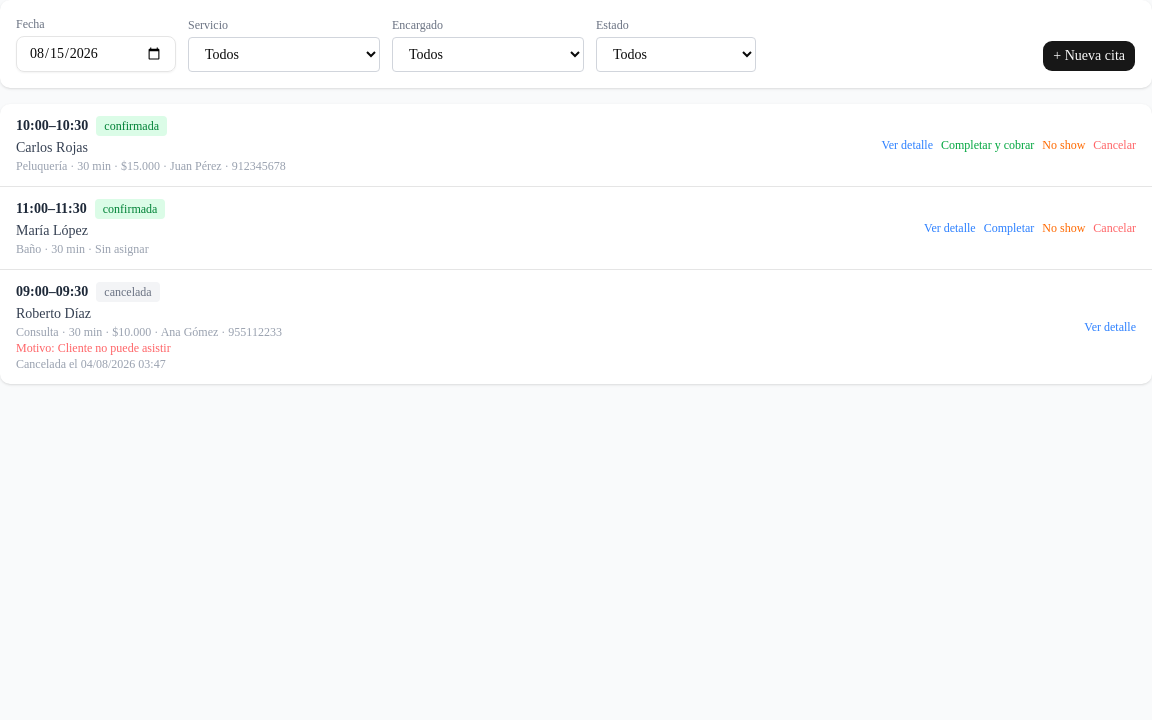
Test case: CitasTab (CTB-XX) › CTB-06: click en 'Ver detalle' abre el modal DetalleCita y Cerrar lo cierra
The width and height of the screenshot is (1152, 720).
Expected: the text "Carlos Rojas" is shown, [16,140,88,155]
Click the button "Ver detalle" in the row of "Carlos Rojas": {"x": 907, "y": 145} [881,137,933,153]
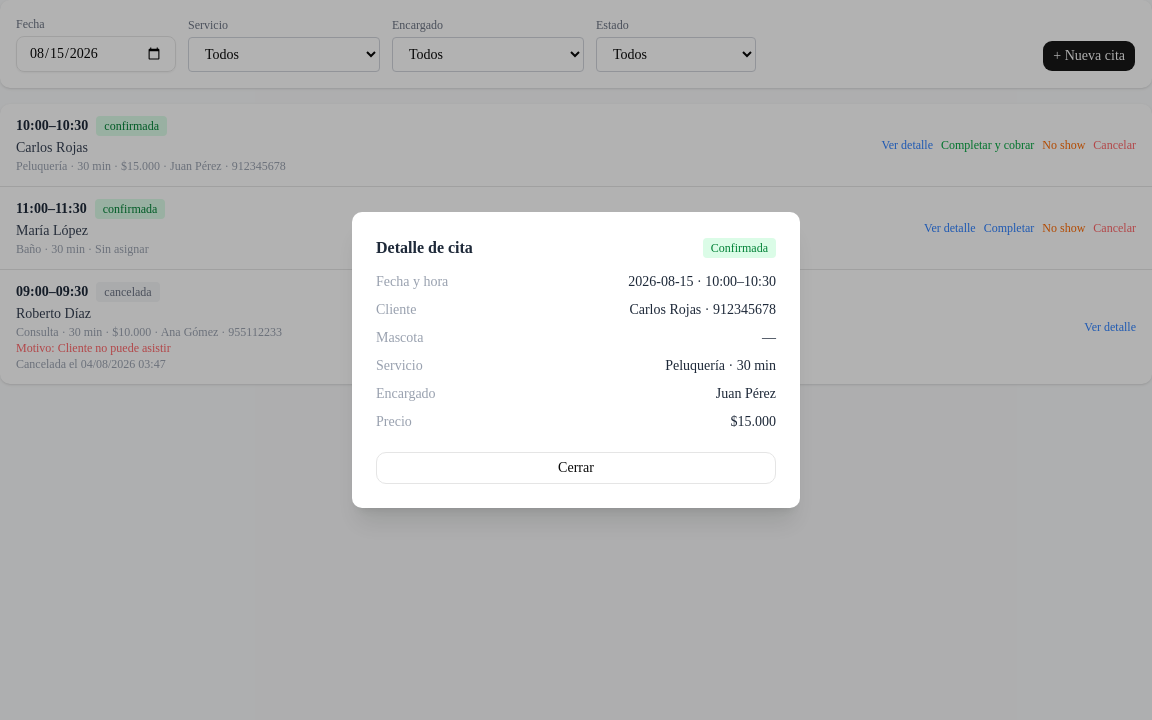
Now the heading "Detalle de cita" is shown, box [376,236,473,260]
Now the button "Cerrar" is shown
Click the button "Cerrar": {"x": 576, "y": 468} [376,452,776,484]
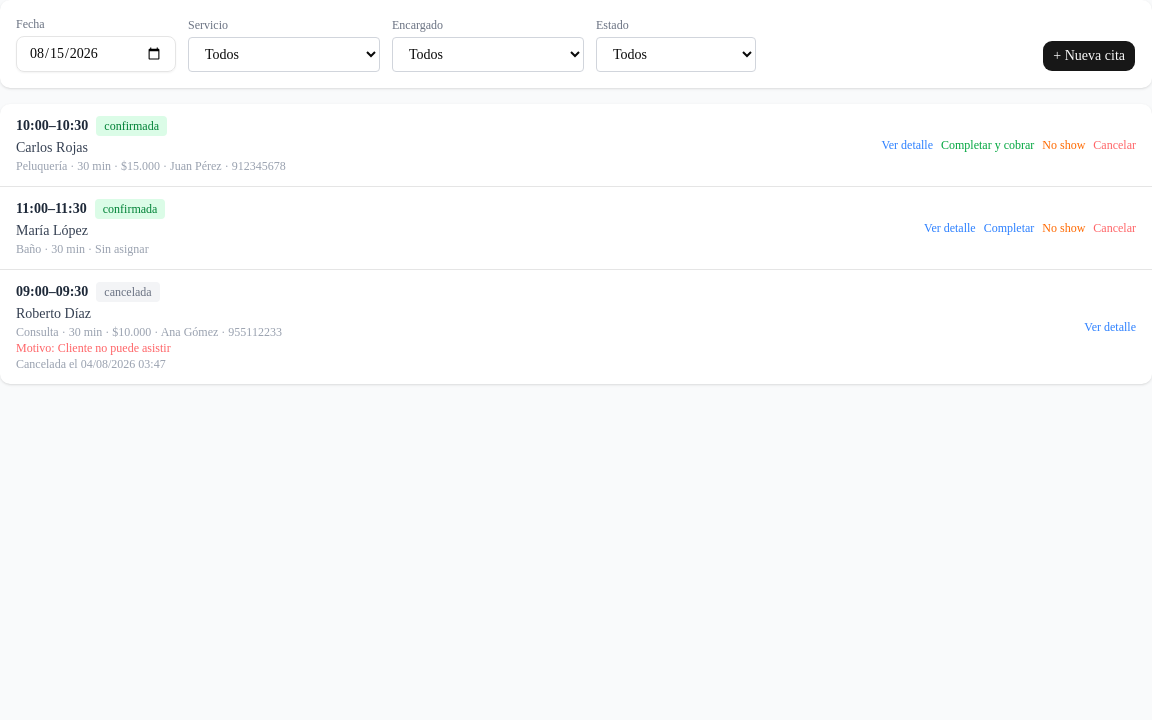
Now the heading "Detalle de cita" is gone
